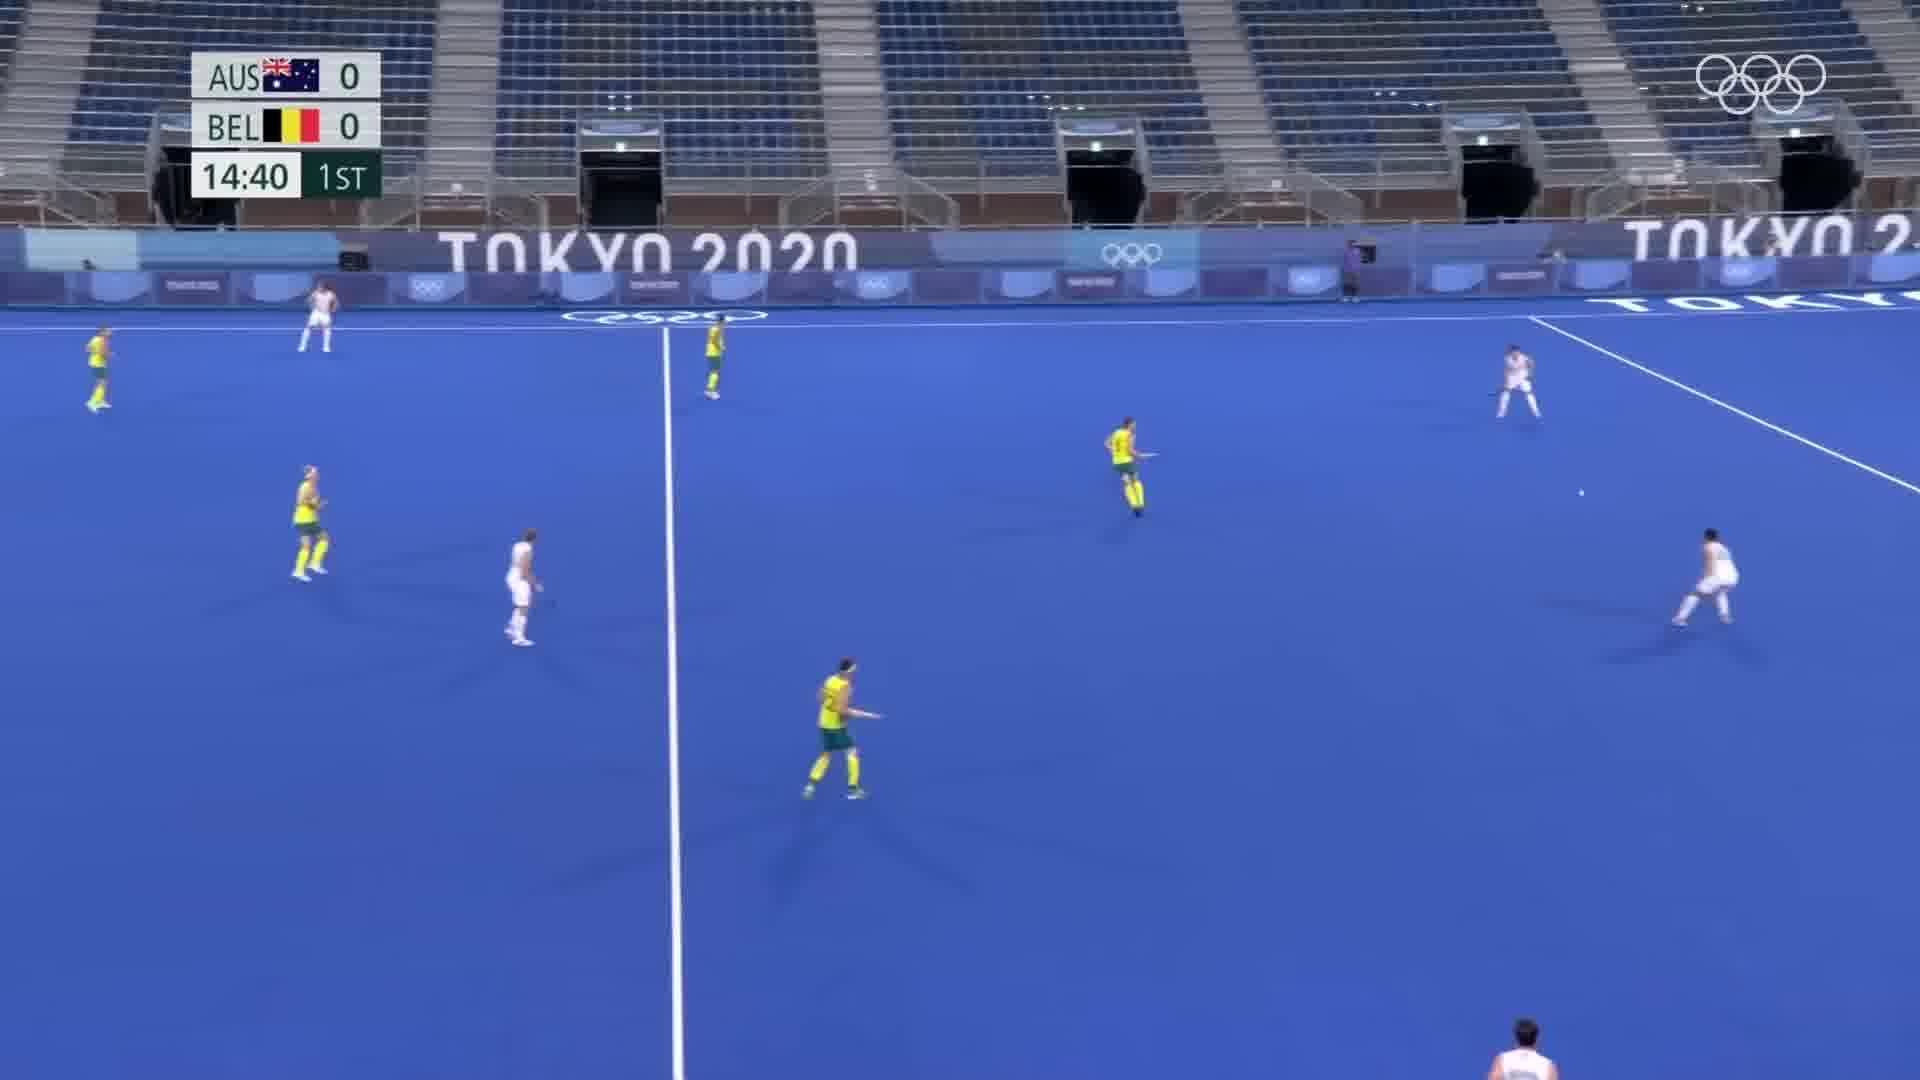ball: (1567, 472, 1594, 506)
